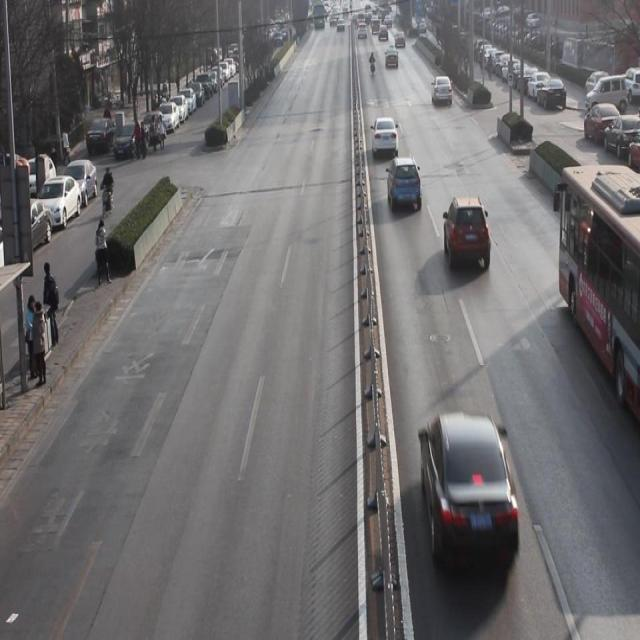car: (420, 404, 523, 576), (443, 195, 492, 271), (388, 156, 422, 214), (372, 110, 401, 160), (430, 78, 456, 106), (385, 47, 400, 70)
van: (556, 166, 640, 415)
